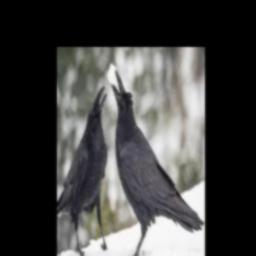Crow: (111, 68, 205, 256), (57, 85, 109, 256)
